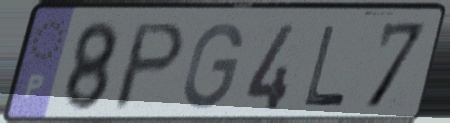4: (240, 18, 297, 114)
7: (366, 18, 432, 113)
8: (59, 17, 122, 117)
G: (181, 19, 246, 112)
L: (301, 23, 350, 109)
P: (108, 18, 190, 114)
